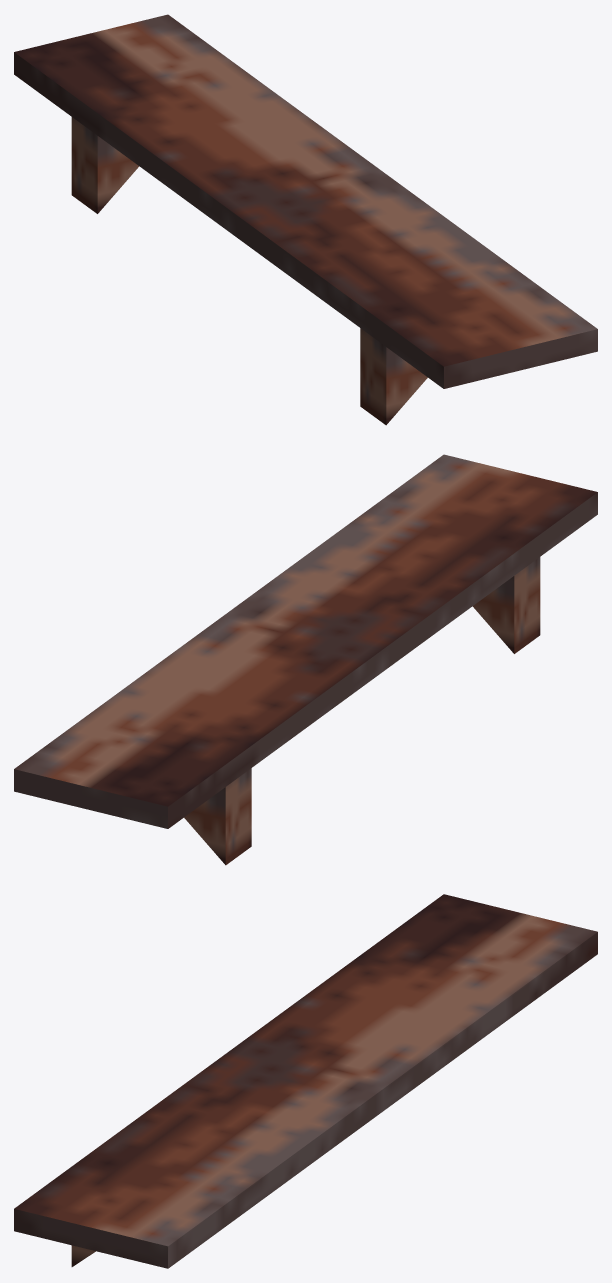
File: wooden_shelf.fbx
3 renders of one model, top to bottom at view 1: azimuth 30°, elevation 25°; view 2: azimuth 150°, elevation 25°; view 3: azimuth 330°, elevation 25°, orthographic.
Visible parts, largest first — view 1: Shelf, Support.010, Support.009; view 2: Shelf, Support.009, Support.010; view 3: Shelf.
Part boxes in pixels (box(x1,y1,x2,y2)): Shelf: box(14, 14, 597, 388); Support.010: box(71, 117, 139, 213); Support.009: box(360, 328, 427, 425); Shelf: box(14, 454, 597, 828); Support.009: box(472, 557, 540, 653); Support.010: box(184, 768, 251, 865); Shelf: box(14, 894, 597, 1268).
Size of the model in its own units: 57.43 by 35.96 by 277.
